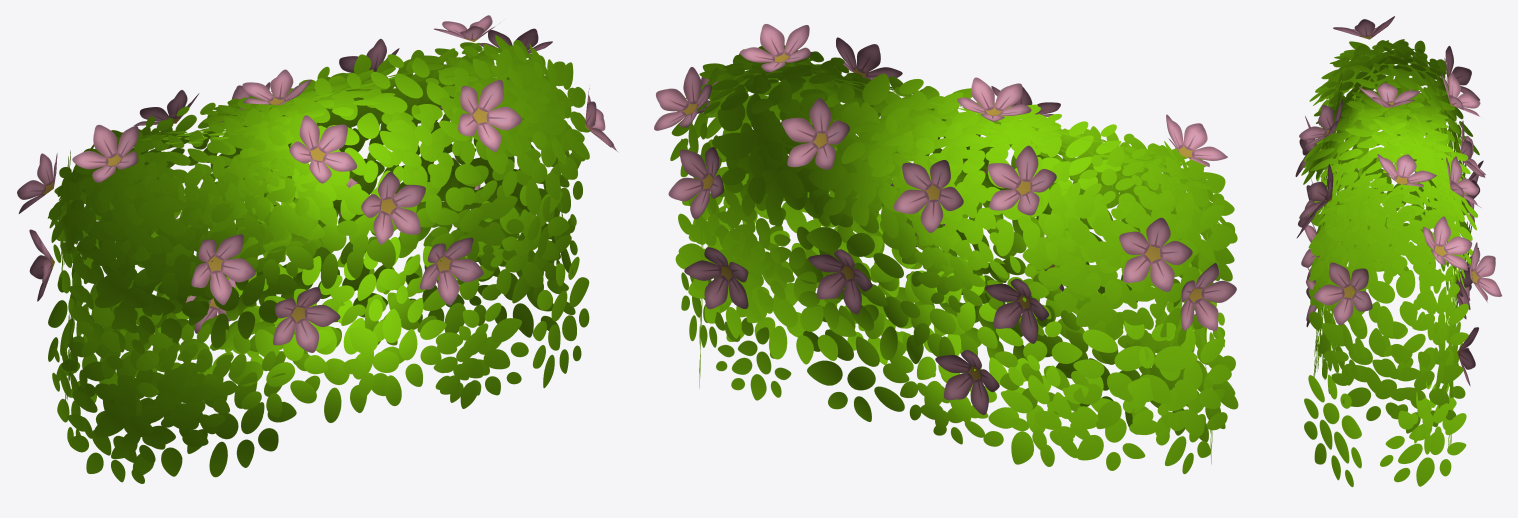
File: Bush_Large_Flowers.glb
The picture shows the model from 3 angles, left to right: view 1: azimuth 30°, elevation 25°; view 2: azimuth 150°, elevation 25°; view 3: azimuth 270°, elevation 25°; orthographic projection. The views are drawn at different scales.
Visible parts, largest first — view 1: Bush_Large_Flowers; view 2: Bush_Large_Flowers; view 3: Bush_Large_Flowers.
Boxes of the visible parts, x1,y1,x2,y2 form: Bush_Large_Flowers: [17, 15, 617, 483]; Bush_Large_Flowers: [654, 24, 1238, 473]; Bush_Large_Flowers: [1295, 16, 1501, 487].
Bounding box in the file's own units: 1.93 × 1.26 × 0.7616.
2 materials, 2 textured.
